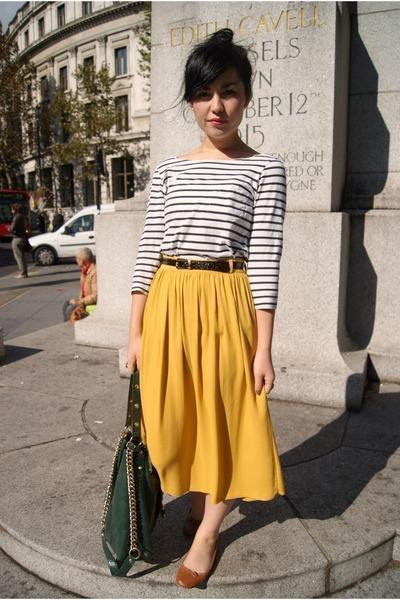bag: (101, 374, 173, 578)
shirt: (128, 142, 291, 303)
shoe: (165, 554, 217, 589)
skirt: (131, 262, 283, 501)
